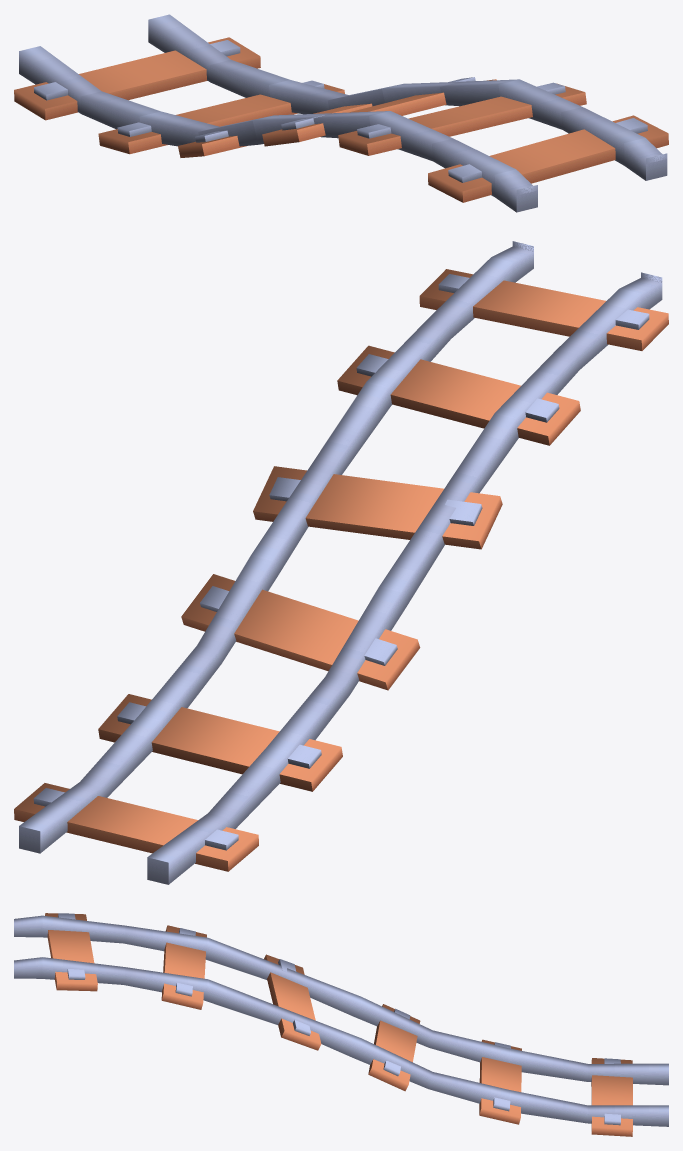
The model's file is railroad-damaged-straight-hill-complete.glb.
3 views of the same model, one above another, from view 1: azimuth 30°, elevation 25°; view 2: azimuth 150°, elevation 25°; view 3: azimuth 270°, elevation 25° (orthographic). The views are drawn at different scales.
Parts seen in each view (by area): view 1: railroad-damaged-straight-hill-complete; view 2: railroad-damaged-straight-hill-complete; view 3: railroad-damaged-straight-hill-complete.
Boxes of the visible parts, x1,y1,x2,y2 form: railroad-damaged-straight-hill-complete: [14, 14, 668, 212]; railroad-damaged-straight-hill-complete: [14, 241, 668, 884]; railroad-damaged-straight-hill-complete: [14, 913, 668, 1136].
Bounding box in the file's own units: 1.02 × 1.1 × 4.
1 material, 1 textured.
